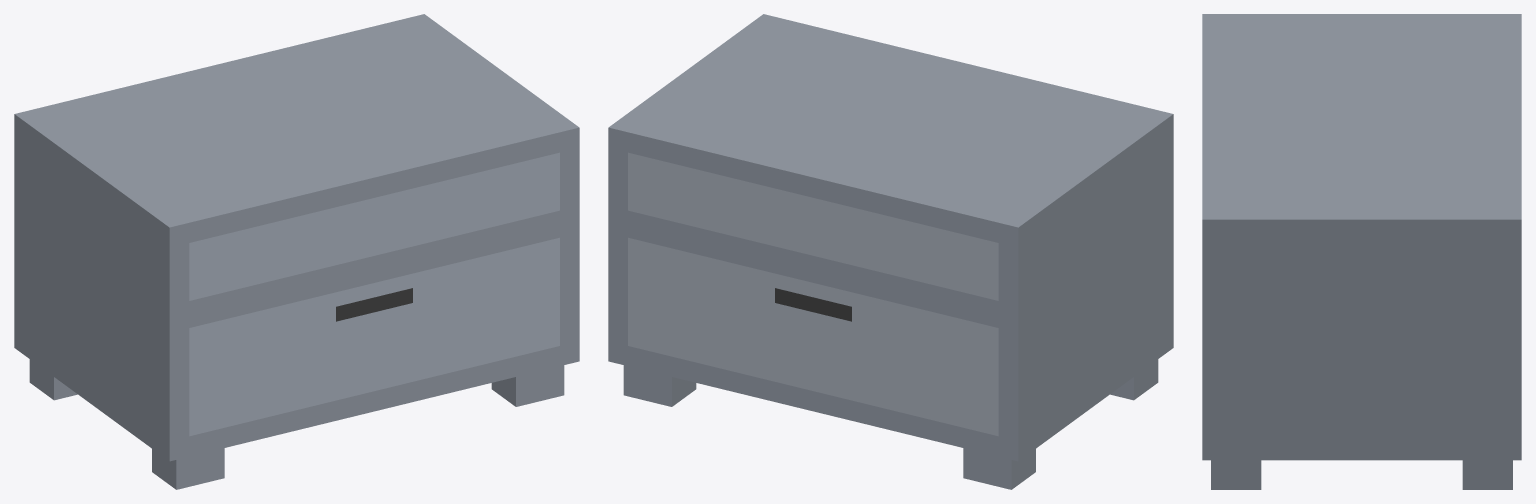
File: KitchenCounter.glb
3 renders of one model, left to right at view 1: azimuth 30°, elevation 25°; view 2: azimuth 150°, elevation 25°; view 3: azimuth 270°, elevation 25°, orthographic. The views are drawn at different scales.
Visible parts, largest first — view 1: SI_Prop_KitchenCounter_01; view 2: SI_Prop_KitchenCounter_01; view 3: SI_Prop_KitchenCounter_01.
Boxes of the visible parts, x1,y1,x2,y2 form: SI_Prop_KitchenCounter_01: (14,14,579,489); SI_Prop_KitchenCounter_01: (608,14,1173,489); SI_Prop_KitchenCounter_01: (1202,14,1521,489).
Bounding box in the file's own units: 0.024 × 0.015 × 0.0158.
Materials: 1 (1 with a texture image).
